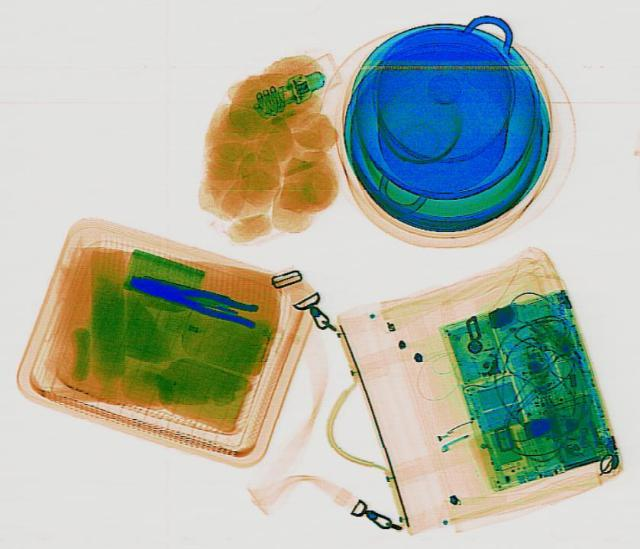Pliers: (122, 265, 264, 328)
